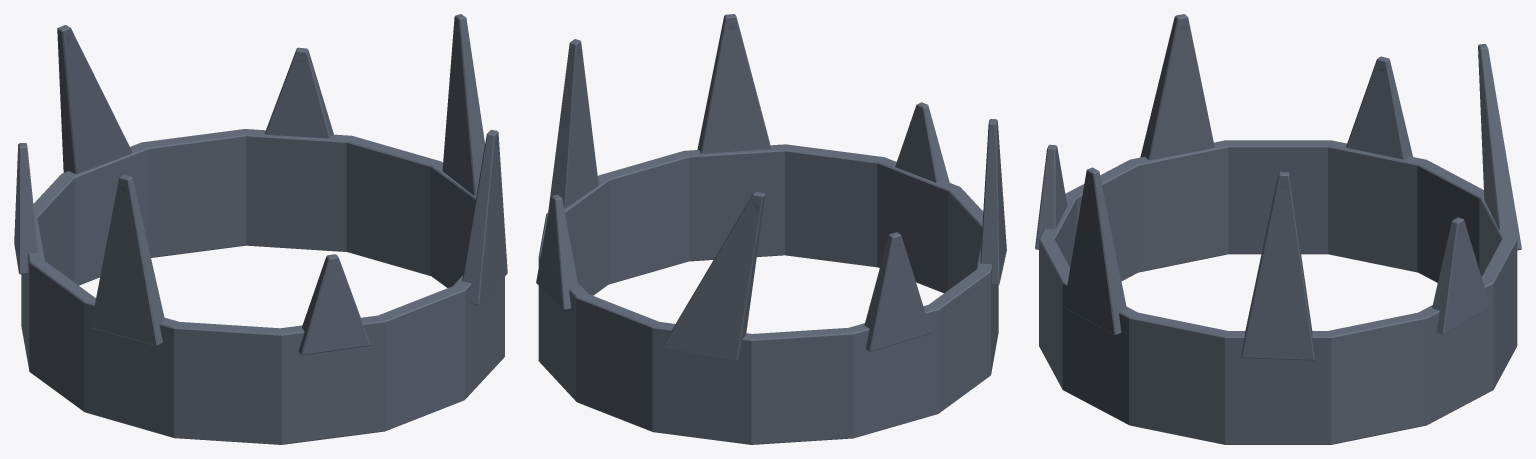
Rendered from crown_frost.glb.
The picture shows the model from 3 angles, left to right: view 1: azimuth 30°, elevation 25°; view 2: azimuth 150°, elevation 25°; view 3: azimuth 270°, elevation 25°; orthographic projection. The views are drawn at different scales.
Visible parts, largest first — view 1: Crown; view 2: Crown; view 3: Crown.
Boxes of the visible parts, x1,y1,x2,y2 form: Crown: [14, 14, 507, 444]; Crown: [536, 14, 1006, 444]; Crown: [1035, 14, 1521, 444].
Size of the model in its own units: 0.1795 by 0.1118 by 0.1831.
